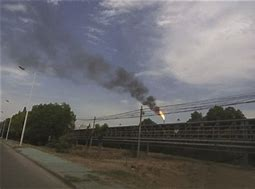smoke: (75, 38, 161, 113)
